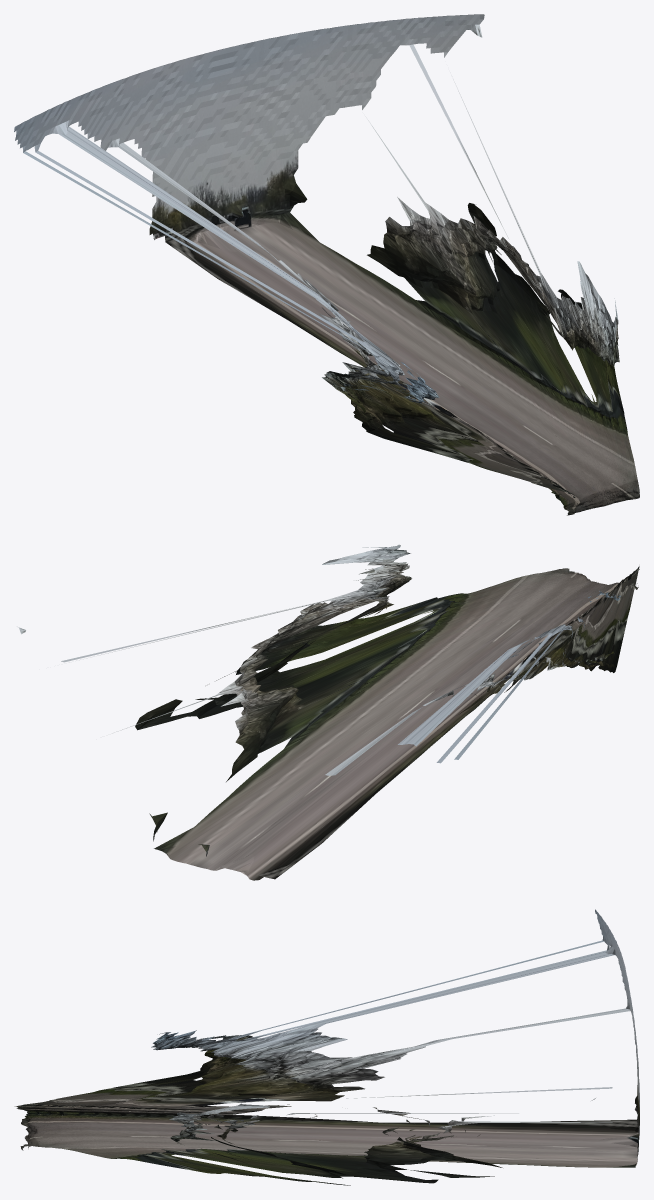
3 renders of one model, top to bottom at view 1: azimuth 30°, elevation 25°; view 2: azimuth 150°, elevation 25°; view 3: azimuth 270°, elevation 25°, orthographic. The views are drawn at different scales.
Parts seen in each view (by area): view 1: defaultobject; view 2: defaultobject; view 3: defaultobject.
Part boxes in pixels (left/top/right/bottom): defaultobject: left=14, top=14, right=639, bottom=515; defaultobject: left=17, top=544, right=639, bottom=880; defaultobject: left=14, top=909, right=639, bottom=1185.
Bounding box in the file's own units: 31.08 × 12.09 × 45.09.
Materials: 1 (1 with a texture image).
